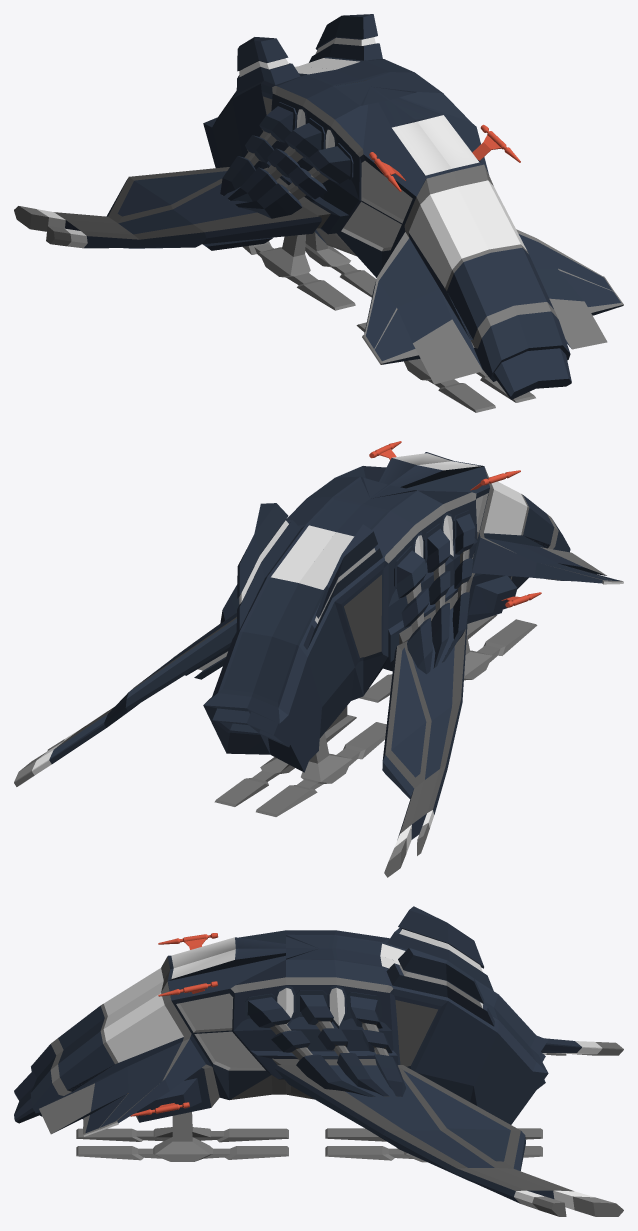
File: flying gnat.fbx
3 views of the same model, one above another, from view 1: azimuth 30°, elevation 25°; view 2: azimuth 150°, elevation 25°; view 3: azimuth 270°, elevation 25° (orthographic). The views are drawn at different scales.
Parts seen in each view (by area): view 1: The Gnat, rear landing gear, front landing gear, projectile.001; view 2: The Gnat, rear landing gear, front landing gear; view 3: The Gnat, front landing gear, rear landing gear, projectile.001.
Part boxes in pixels (x1=…): The Gnat: x1=14, y1=14, x2=623, y2=399; rear landing gear: x1=242, y1=232, x2=376, y2=310; front landing gear: x1=356, y1=322, x2=535, y2=412; projectile.001: x1=369, y1=124, x2=520, y2=191; The Gnat: x1=14, y1=452, x2=623, y2=877; rear landing gear: x1=214, y1=715, x2=386, y2=816; front landing gear: x1=359, y1=615, x2=537, y2=702; The Gnat: x1=14, y1=906, x2=623, y2=1216; front landing gear: x1=76, y1=1112, x2=288, y2=1161; rear landing gear: x1=325, y1=1128, x2=542, y2=1162; projectile.001: x1=158, y1=933, x2=218, y2=996.
Size of the model in its own units: 500 by 318 by 800.
